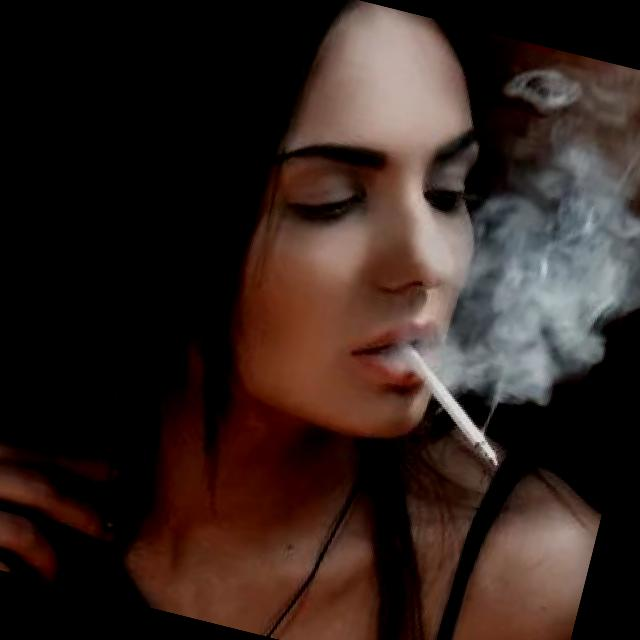smoke: (368, 334, 522, 472)
